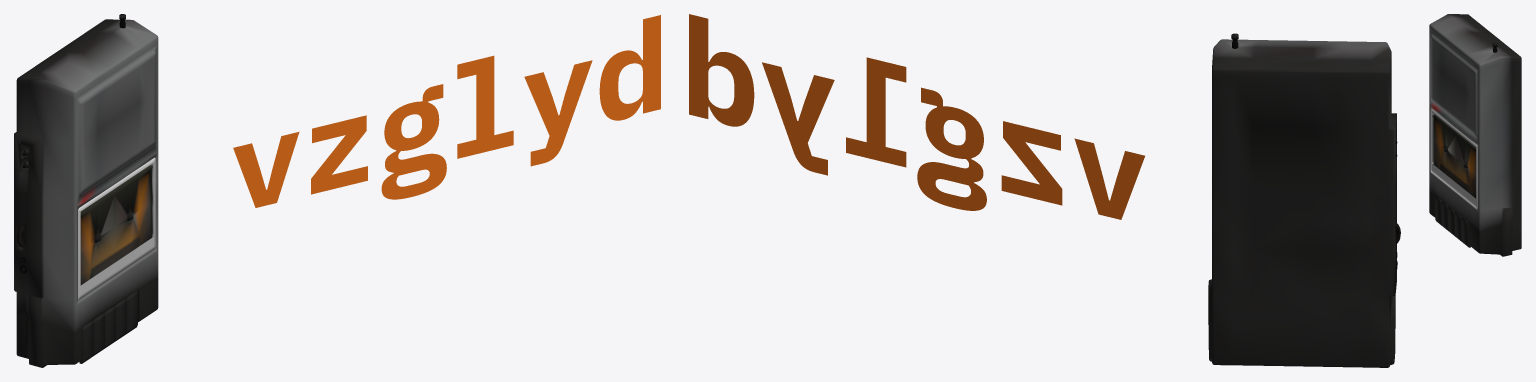
File: world.glb
3 views of the same model, side by side, from view 1: azimuth 30°, elevation 25°; view 2: azimuth 150°, elevation 25°; view 3: azimuth 270°, elevation 25° (orthographic). The views are drawn at different scales.
Visible parts, largest first — view 1: cassette_player_body, Text, cassette_player_tape; view 2: cassette_player_body, Text; view 3: cassette_player_body, cassette_player_tape.
Part boxes in pixels (left/top/right/bottom): cassette_player_body: left=14, top=14, right=158, bottom=367; Text: left=233, top=15, right=660, bottom=207; cassette_player_tape: left=80, top=166, right=151, bottom=285; cassette_player_body: left=1208, top=33, right=1400, bottom=367; Text: left=689, top=14, right=1144, bottom=219; cassette_player_body: left=1429, top=14, right=1521, bottom=256; cassette_player_tape: left=1433, top=114, right=1475, bottom=198.
Bounding box in the file's own units: 17.82 × 7.79 × 3.14.
